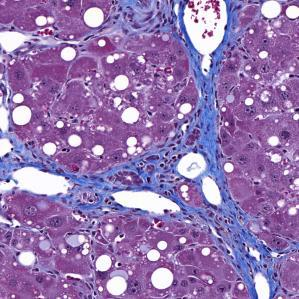fibrosis: (181, 56, 227, 153), (87, 166, 187, 203), (211, 217, 268, 275)
